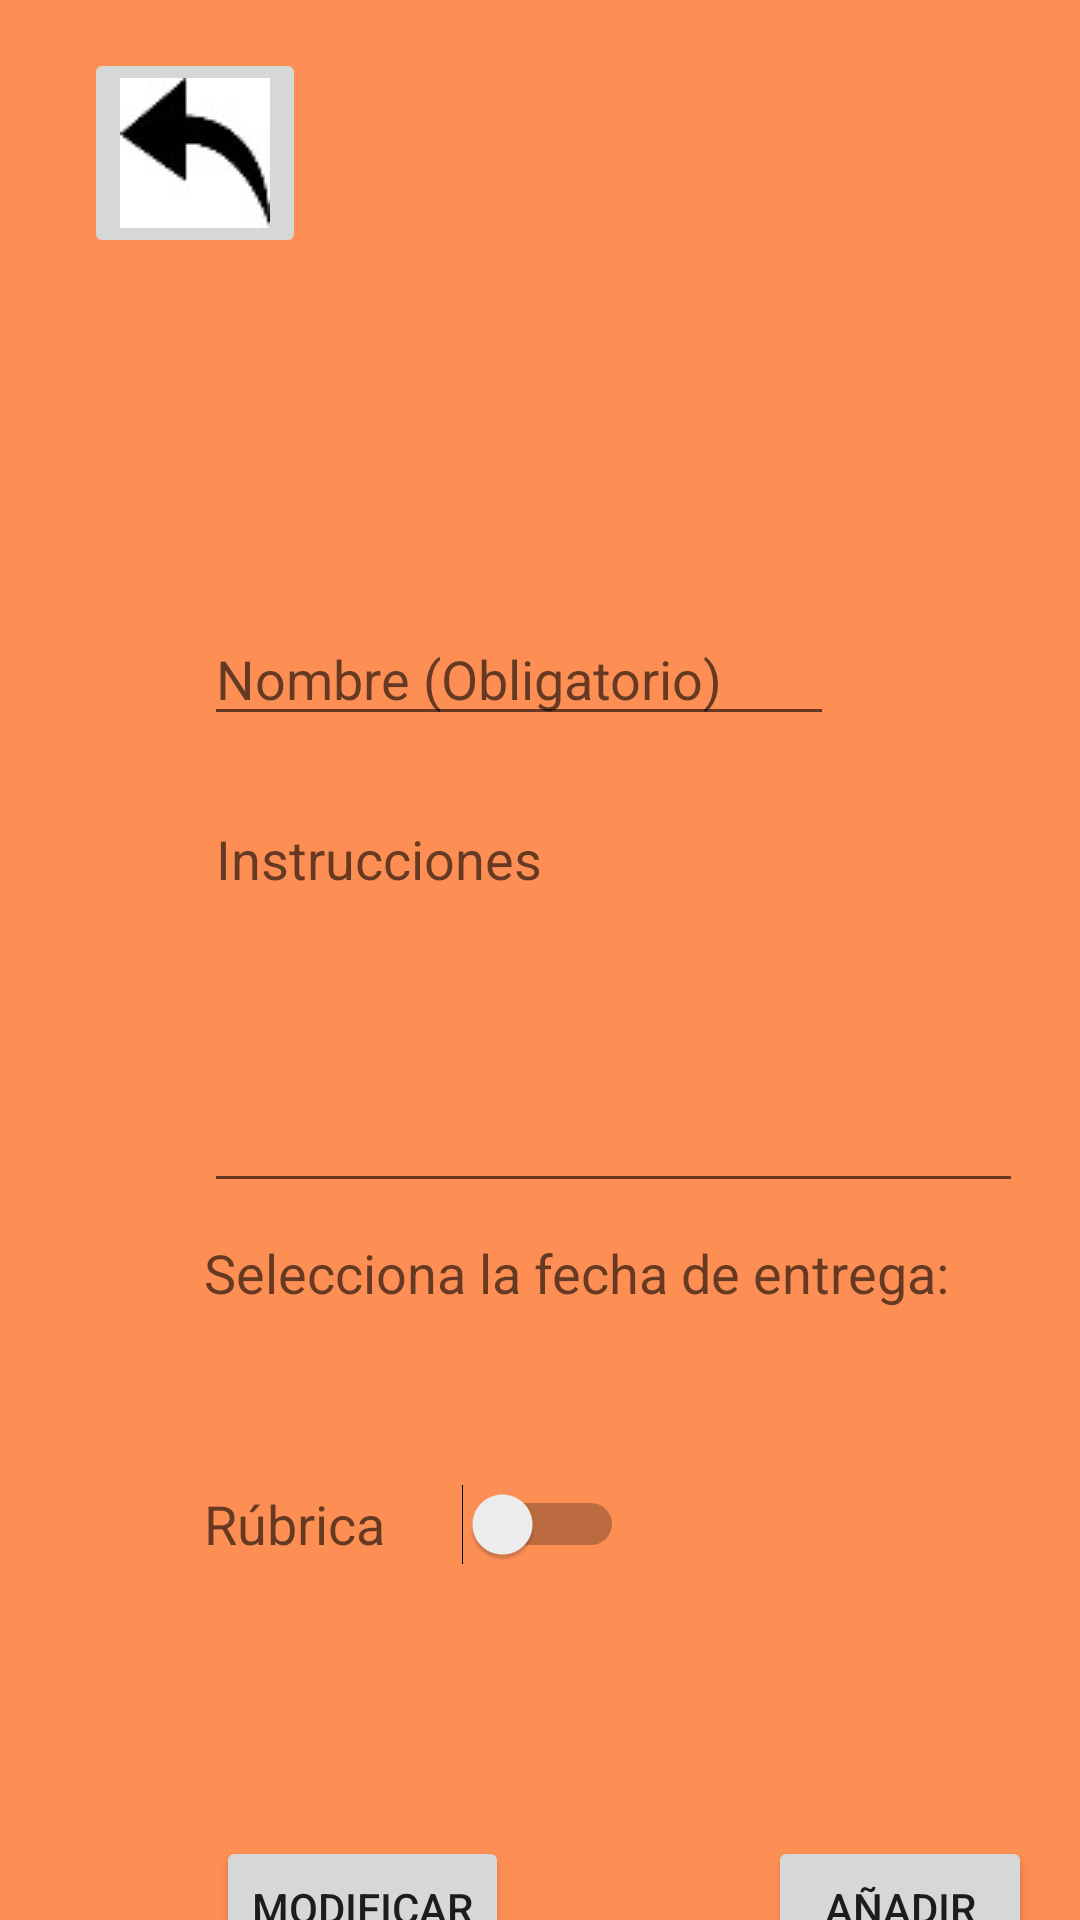

Screen size 1080x1920. Icon name, then its box in pixels as Rect(x1, y1, x2, y2):
volver: Rect(96, 66, 294, 240)
